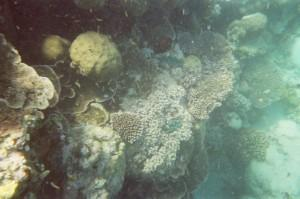bleached_corals: (68, 69, 232, 199), (0, 31, 124, 198), (249, 120, 300, 199)
